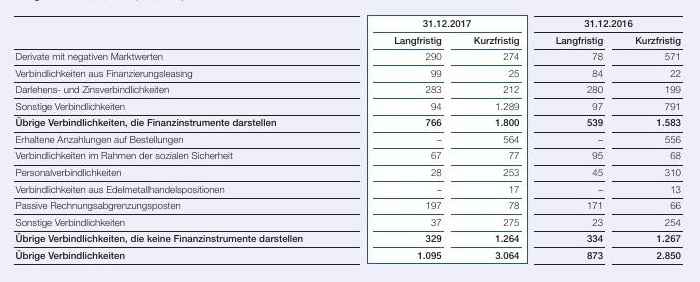table: (0, 0, 700, 282)
